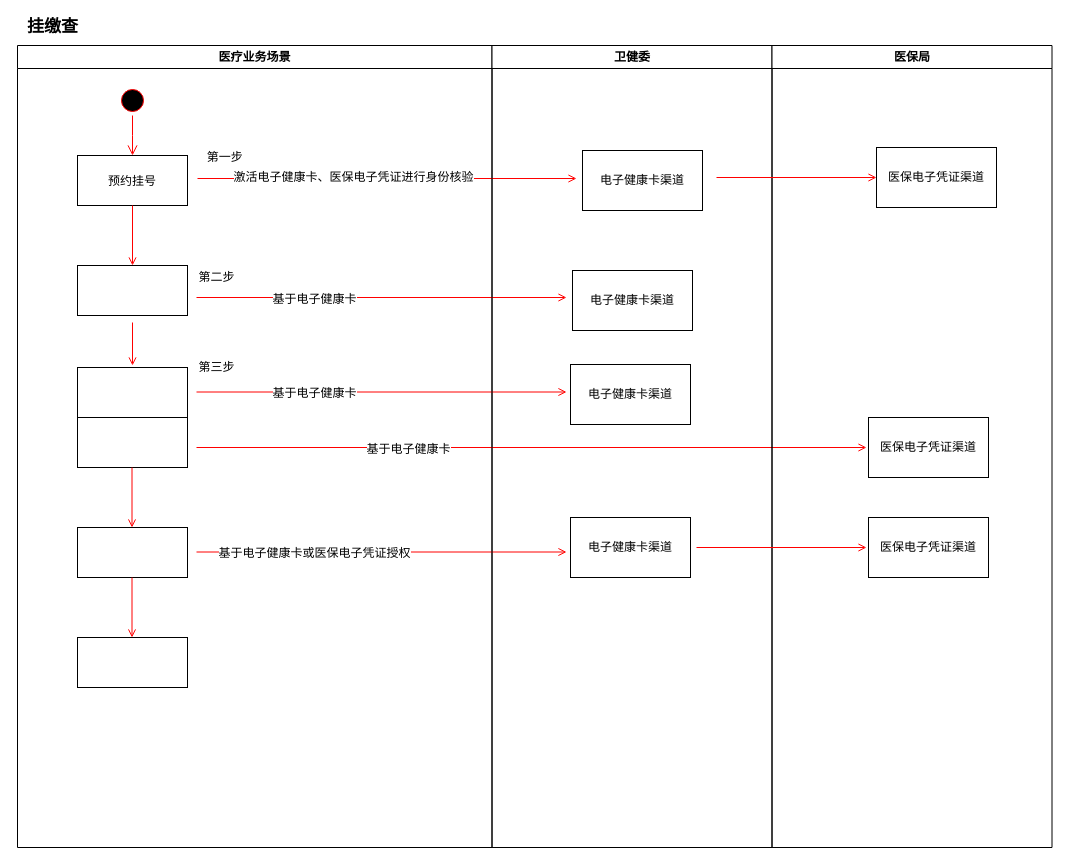
The diagram is 1070 pixels wide and 865 high, and some of its shapes have lost their labels. The shapes that lost their labels are listed below. From the top down, each one's centre as x and y in pixels, then its label:
the point at 132,290: 就诊
the point at 132,392: 自费结算模式
the point at 132,442: 医保混合结算模式
the point at 132,552: 取药/检查
the point at 132,662: 患者医保消息提醒
